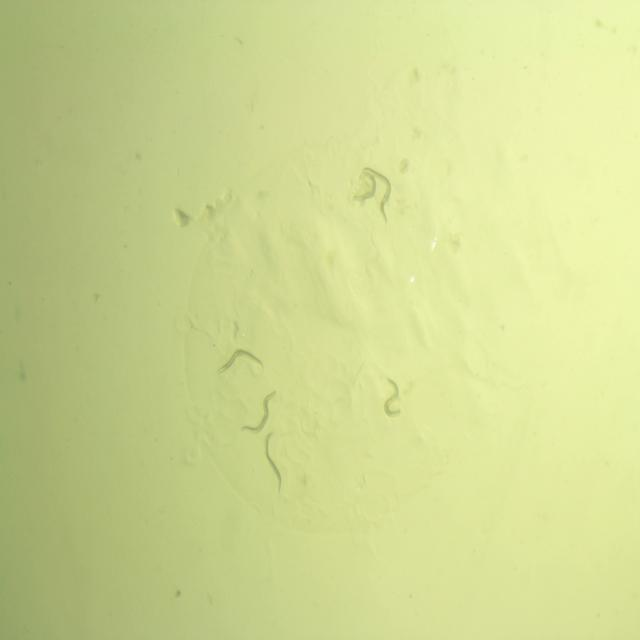worm: (238, 386, 280, 438), (363, 163, 395, 228), (213, 345, 268, 380), (262, 428, 288, 499), (380, 371, 407, 424), (351, 172, 378, 206)
